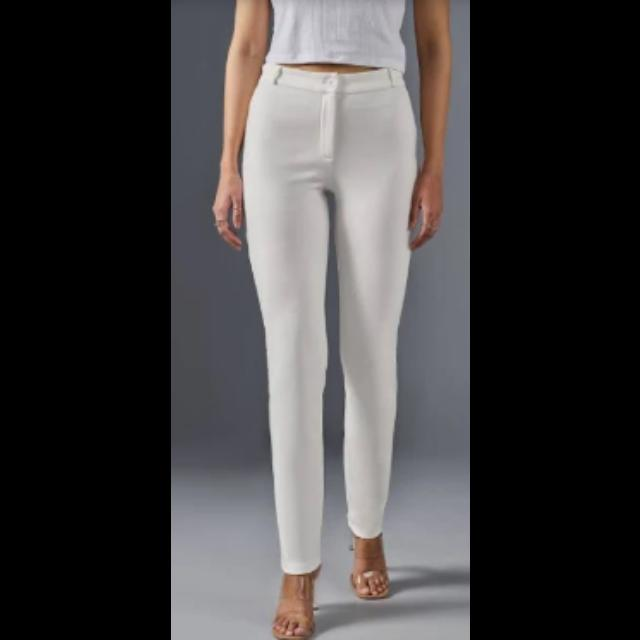bottom: (256, 65, 394, 572)
